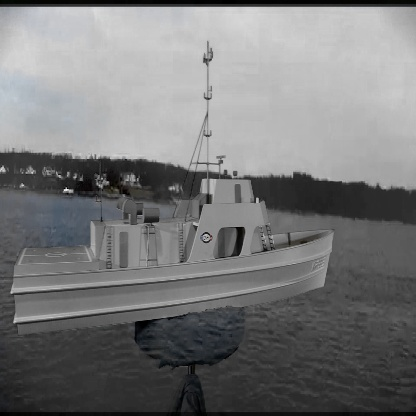YP689: (11, 37, 335, 339)
